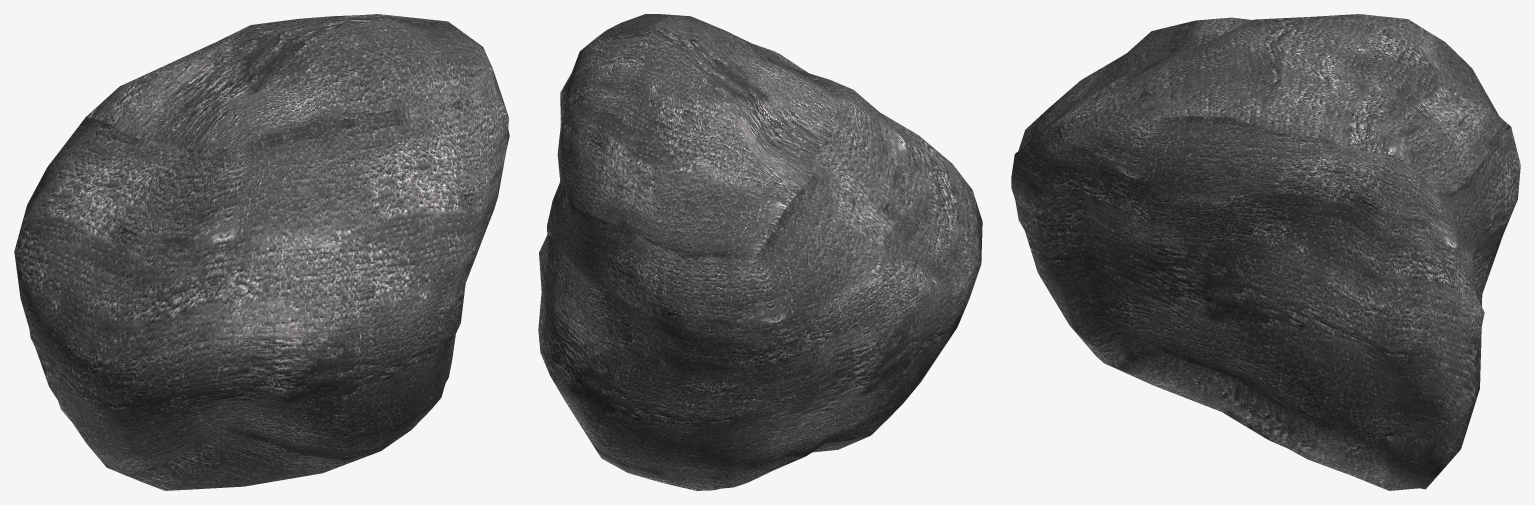
File: stone_00.FBX
3 renders of one model, left to right at view 1: azimuth 30°, elevation 25°; view 2: azimuth 150°, elevation 25°; view 3: azimuth 270°, elevation 25°, orthographic. The views are drawn at different scales.
Visible parts, largest first — view 1: stone00; view 2: stone00; view 3: stone00.
Part boxes in pixels (x1,y1,x2,y2): stone00: (14, 14, 509, 490); stone00: (538, 14, 982, 490); stone00: (1011, 14, 1520, 490).
Bounding box in the file's own units: 29.42 × 29.42 × 31.09.
